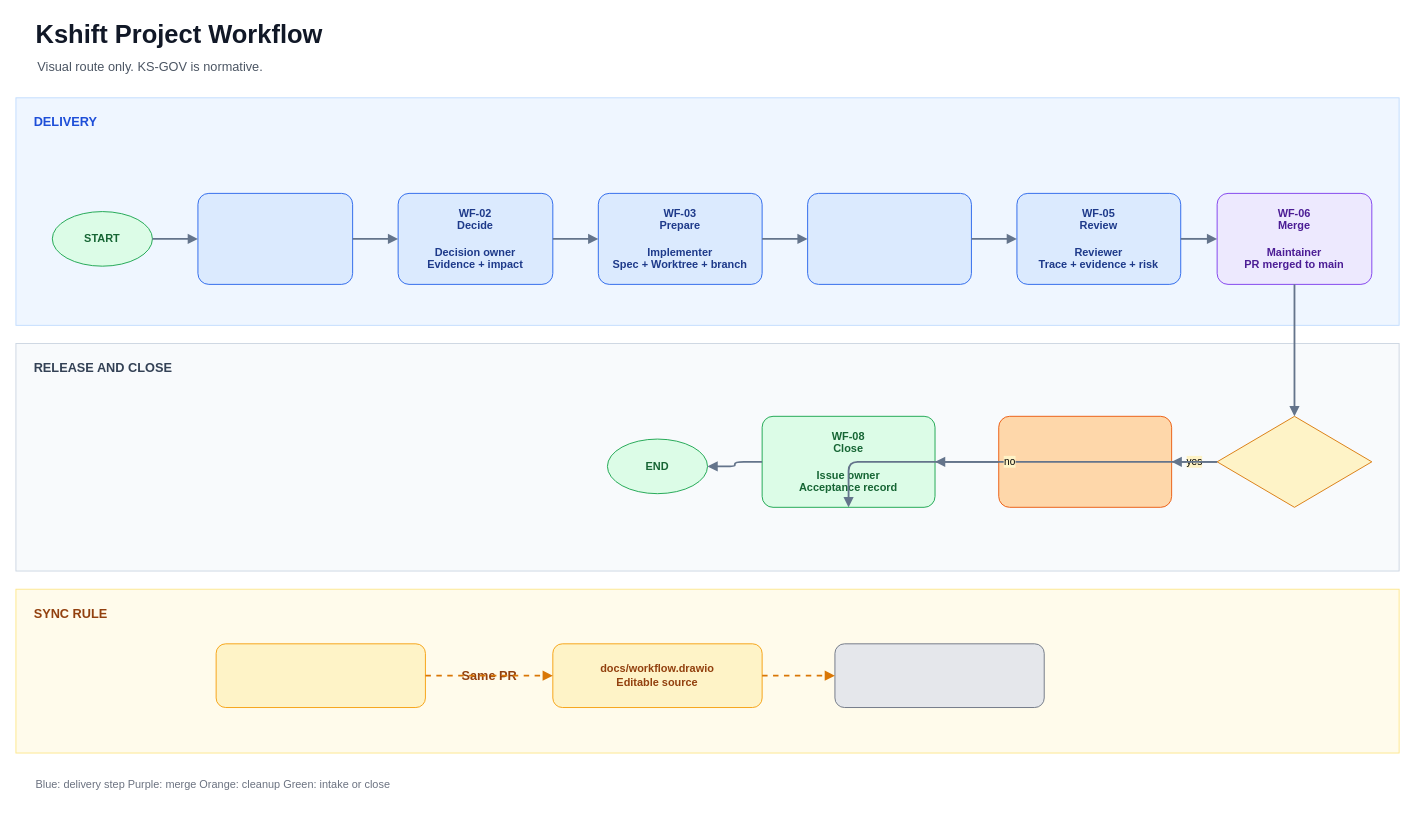
The diagram is 1415 pixels wide and 814 high, and some of its shapes have lost their labels. Here are the shapes that lost their labels. From the top down, the centre of each, then its label:
At [275,238]: "WF-01 Intake Issue owner Type + area + Project".
At [889,238]: "WF-04 Deliver Implementer Code + docs + evidence".
At [1085,461]: "WF-07 Cleanup Implementer Evidence + audit + approval".
At [1294,461]: "Worktree delivery?".
At [320,675]: "docs/workflow.md Text mirror".
At [939,675]: "KS-GOV resolves conflicts".
